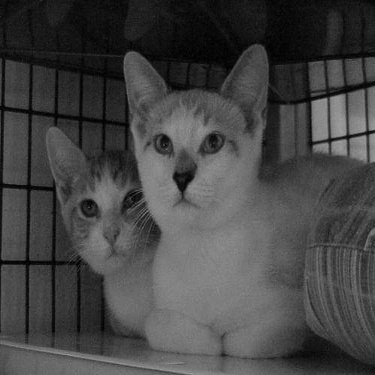cat: (123, 48, 365, 362), (45, 123, 166, 340)
